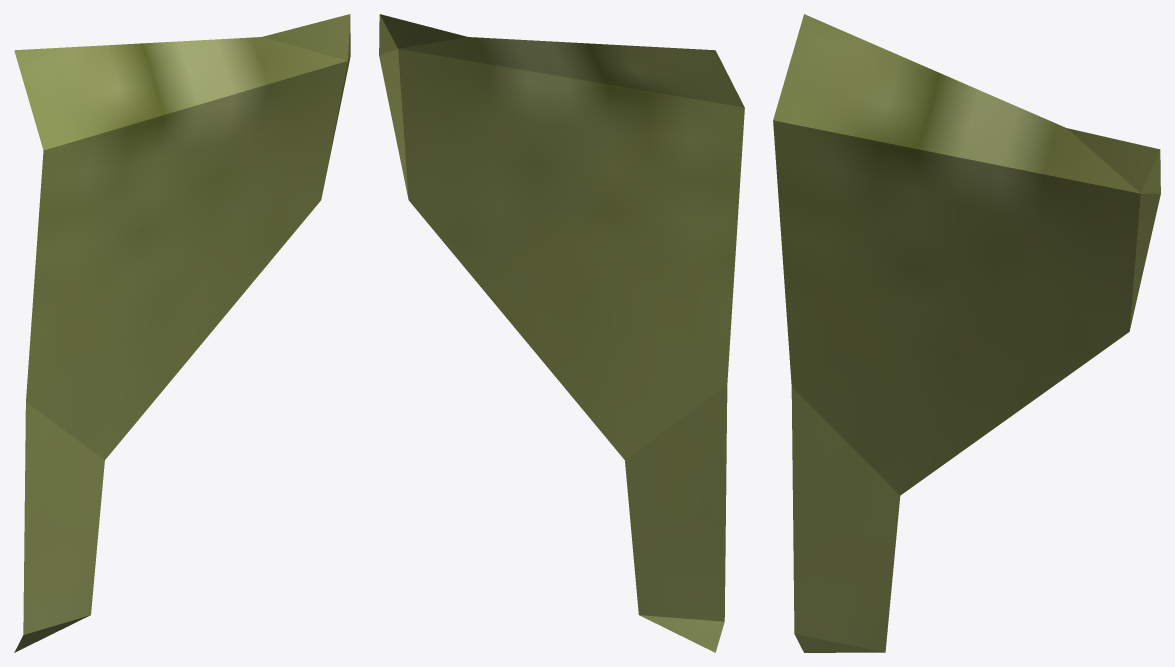
3 views of the same model, side by side, from view 1: azimuth 30°, elevation 25°; view 2: azimuth 150°, elevation 25°; view 3: azimuth 330°, elevation 25° (orthographic). The views are drawn at different scales.
Bounding box in the file's own units: 0.1043 × 0.1785 × 0.0157.
Materials: 1 (1 with a texture image).
